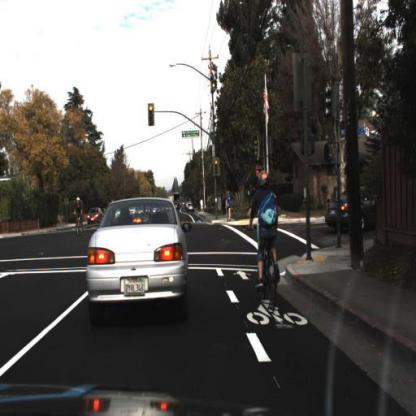biker: (242, 167, 286, 318), (72, 194, 90, 241), (74, 195, 87, 238)
car: (79, 188, 195, 336)
pedestrian: (222, 186, 236, 228)
trafficLight-Red: (147, 104, 160, 139), (212, 154, 223, 181), (148, 102, 156, 128)
